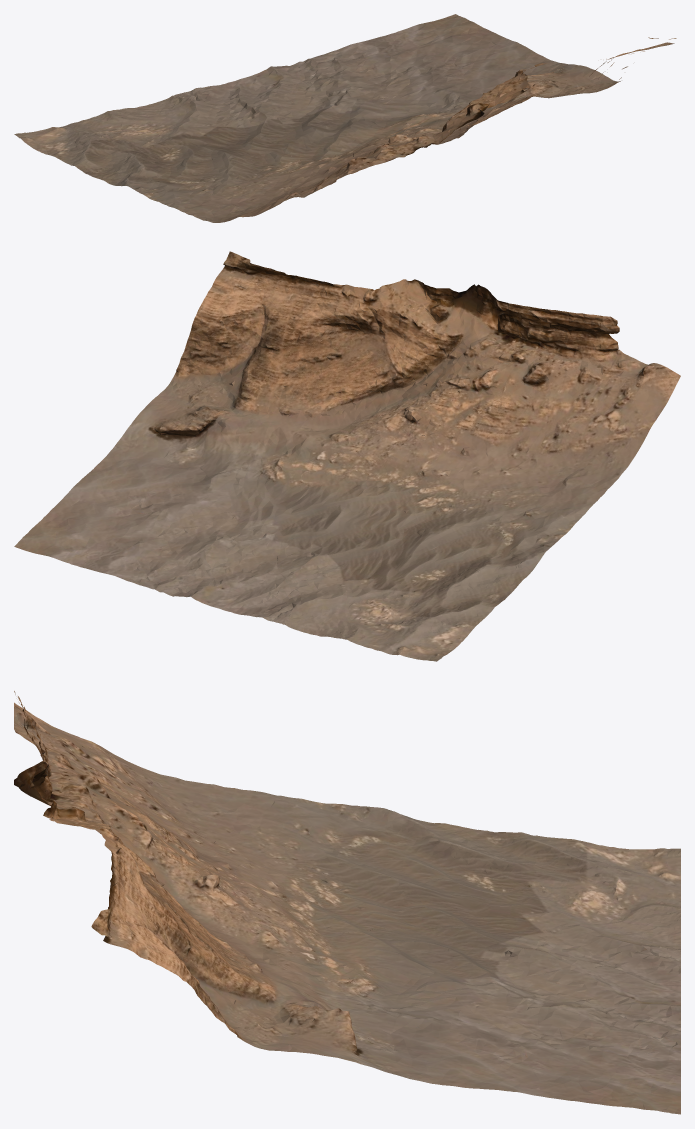
3 views of the same model, one above another, from view 1: azimuth 30°, elevation 25°; view 2: azimuth 150°, elevation 25°; view 3: azimuth 270°, elevation 25° (orthographic). The views are drawn at different scales.
Bounding box in the file's own units: 8.36 × 2.9 × 8.36.
3 materials, 3 textured.
